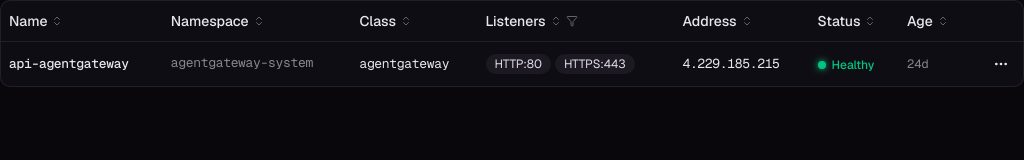
Test: ResourceTable › shows the status message in a tooltip
This screenshot has width=1024, height=160.
Hover over the text "Healthy" at (853, 64), box [832,56,874,72]
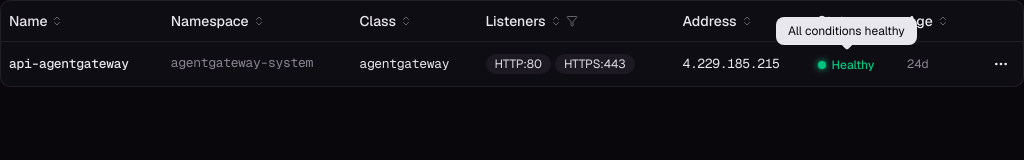
Result: the tooltip "All conditions healthy" is shown at [776,17,917,45]
